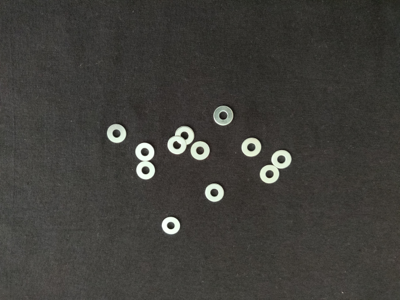circle: (106, 123, 128, 144), (134, 142, 156, 163), (167, 135, 188, 156), (175, 125, 196, 146), (204, 182, 225, 203), (161, 216, 182, 237), (214, 105, 235, 126), (242, 137, 263, 158), (271, 149, 292, 170), (135, 161, 156, 181), (190, 141, 211, 161), (259, 165, 280, 185)
